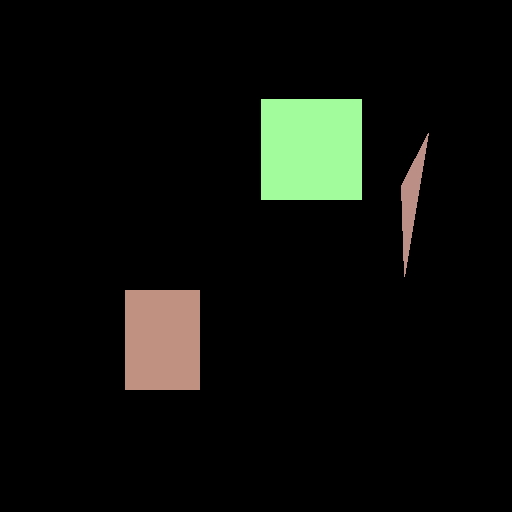rectangle: (125, 290, 199, 389)
square: (261, 99, 361, 199)
triangle: (401, 133, 428, 276)
